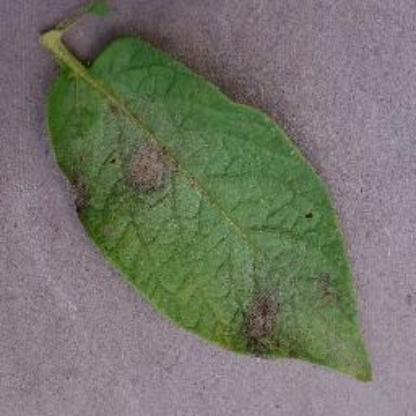Late-Blight: (28, 21, 390, 391)
